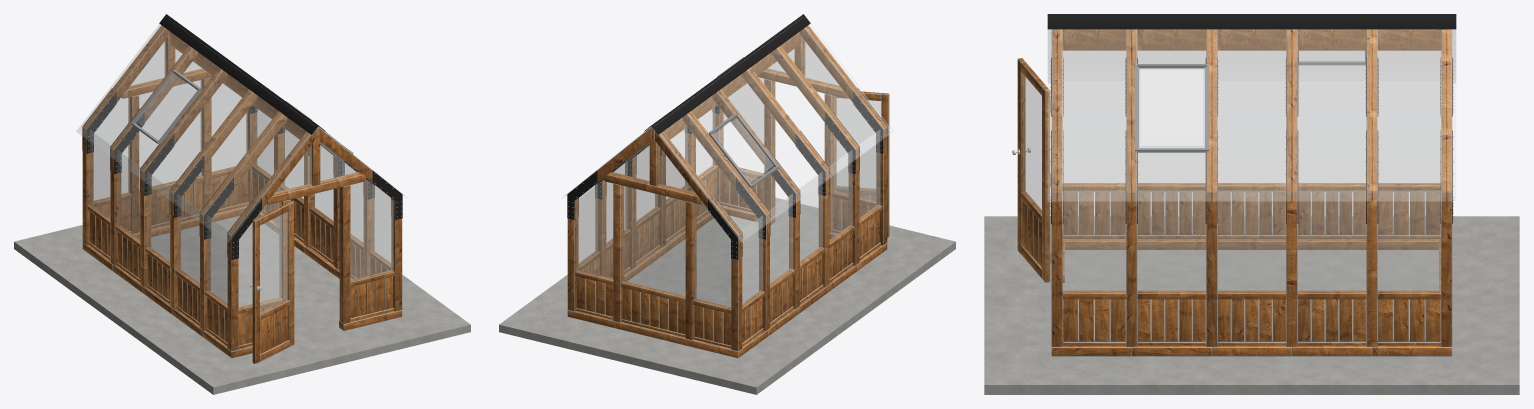
File: nordwood-arrow-ar2.glb
3 views of the same model, side by side, from view 1: azimuth 30°, elevation 25°; view 2: azimuth 150°, elevation 25°; view 3: azimuth 270°, elevation 25° (orthographic). The views are drawn at different scales.
Visible parts, largest first — view 1: nordwood-arrow; view 2: nordwood-arrow; view 3: nordwood-arrow.
Part boxes in pixels (box(x1,y1,x2,y2)): nordwood-arrow: box(14, 14, 470, 394); nordwood-arrow: box(499, 14, 955, 394); nordwood-arrow: box(984, 14, 1519, 394).
Size of the model in its own units: 3.62 by 2.97 by 4.85.
9 materials, 4 textured.
